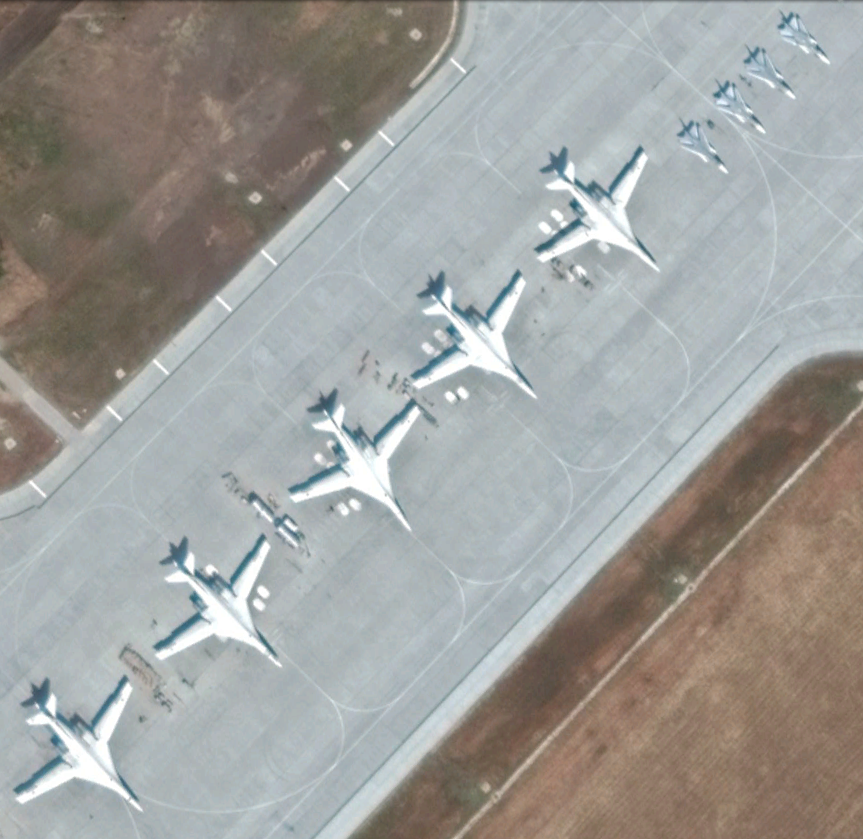A20: (773, 6, 835, 71), (737, 42, 804, 100), (704, 77, 769, 135), (669, 117, 733, 175)
A6: (12, 671, 152, 823), (279, 400, 424, 540), (147, 535, 291, 675), (532, 139, 670, 278), (407, 266, 545, 405)
